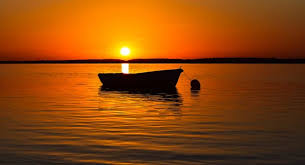boat: (98, 67, 185, 92)
